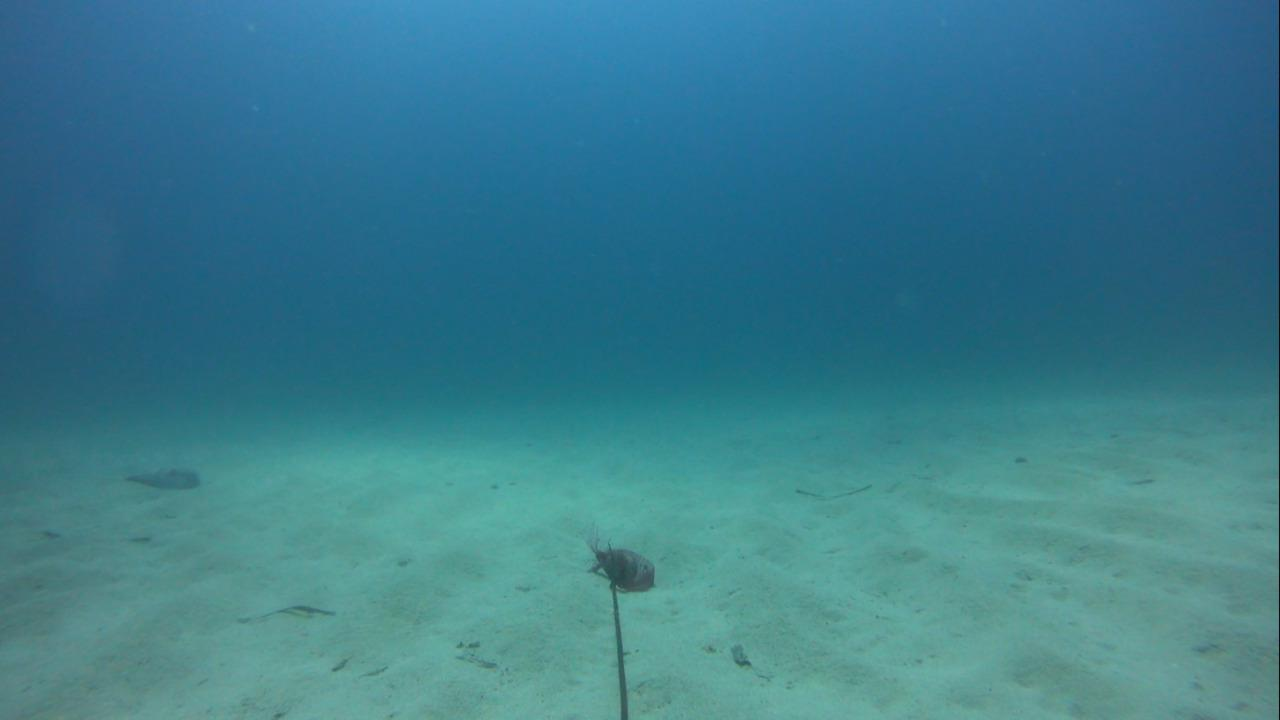raor: (113, 462, 204, 492)
